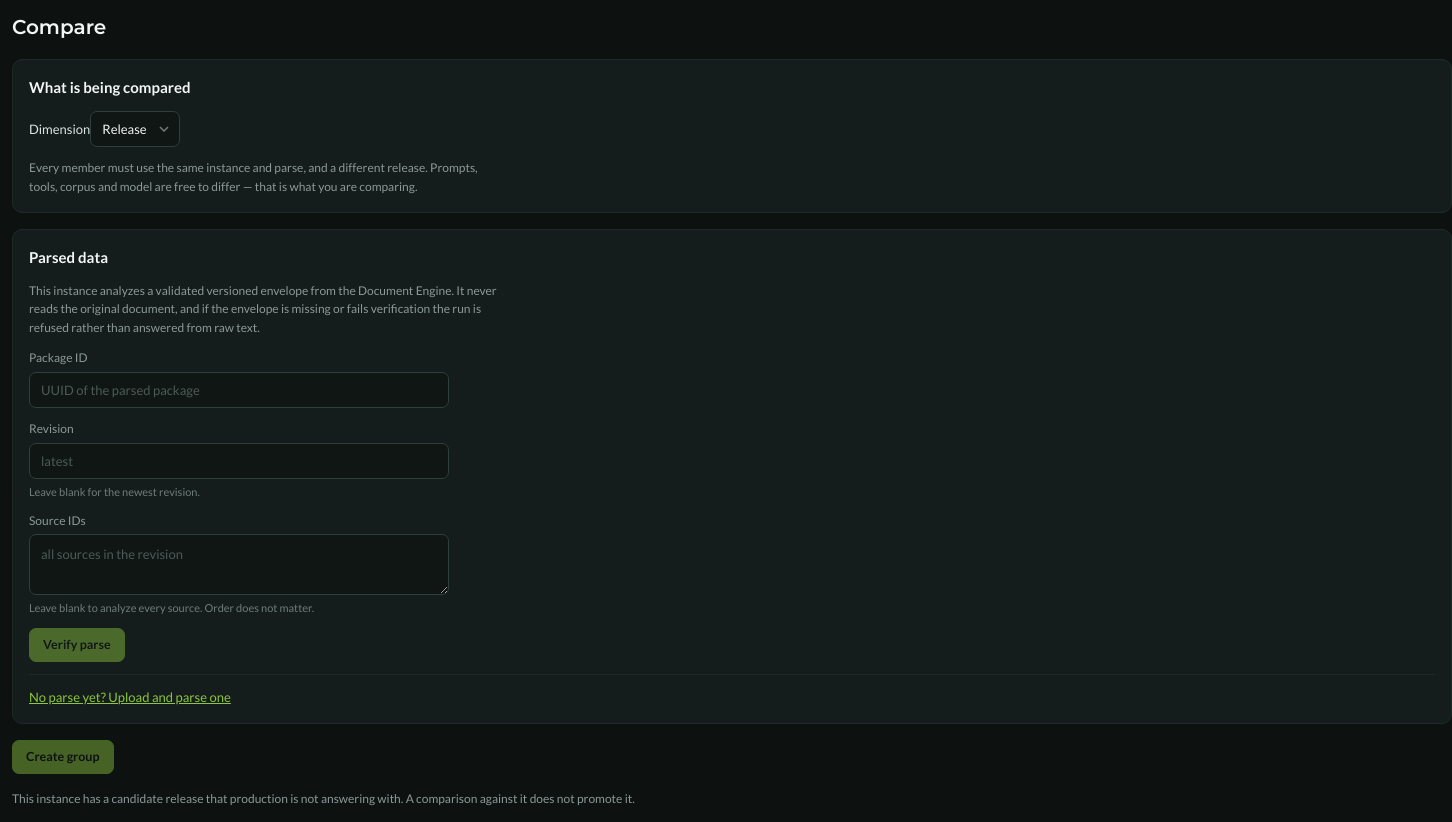
Test: InstanceCompare › states what each dimension holds equal before anything is chosen
The image size is (1452, 822).
Expected: the text "same instance and parse, and a different release" is shown, [29,160,478,194]
Select "Instance" in the dropdown labelled "Dimension" at (135, 129), box [90,111,180,147]
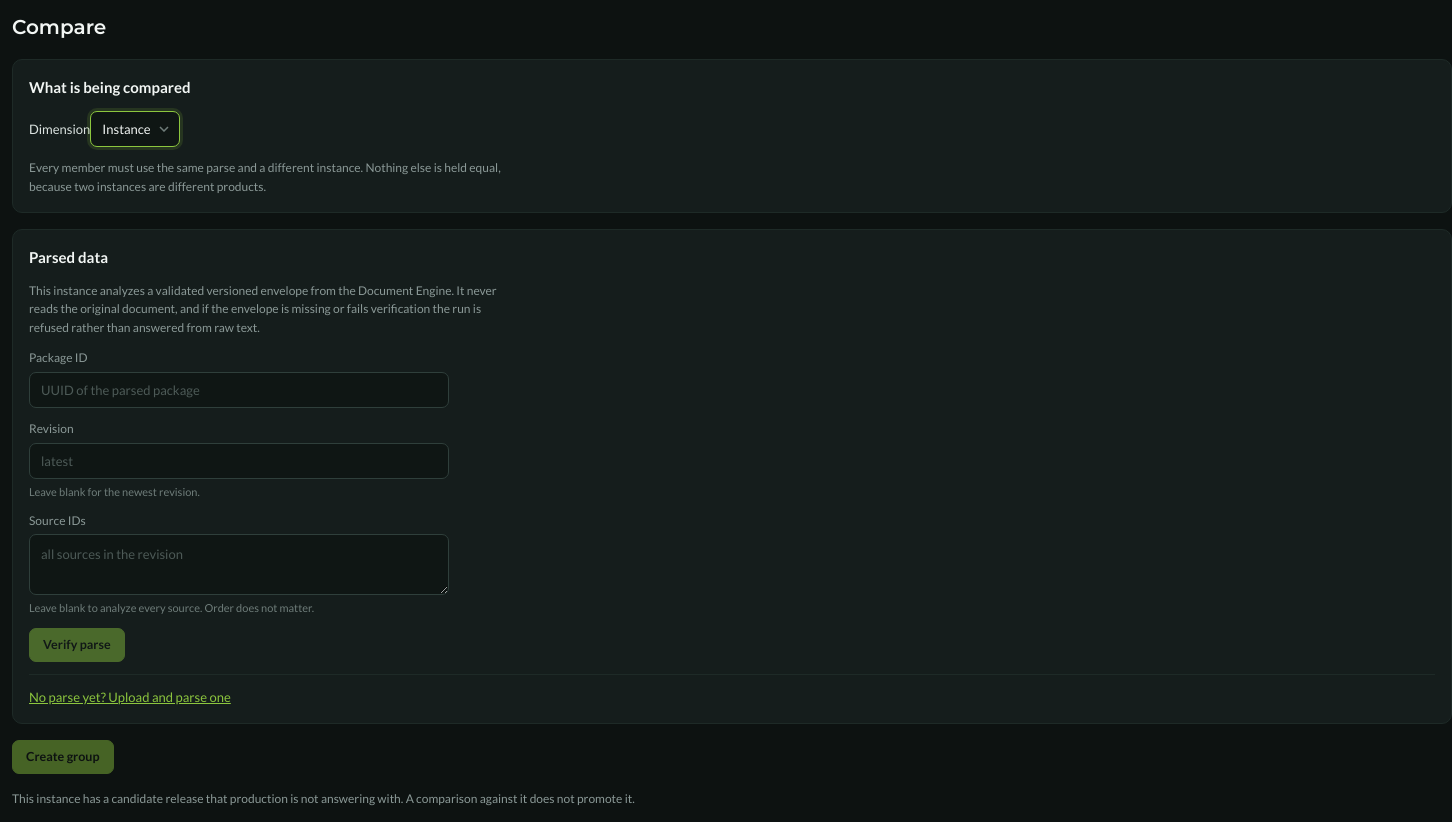
Expected: the text "same parse and a different instance" is shown, [29,160,501,194]
Select "Model" in the dropdown labelled "Dimension" at (135, 129), box [90,111,180,147]
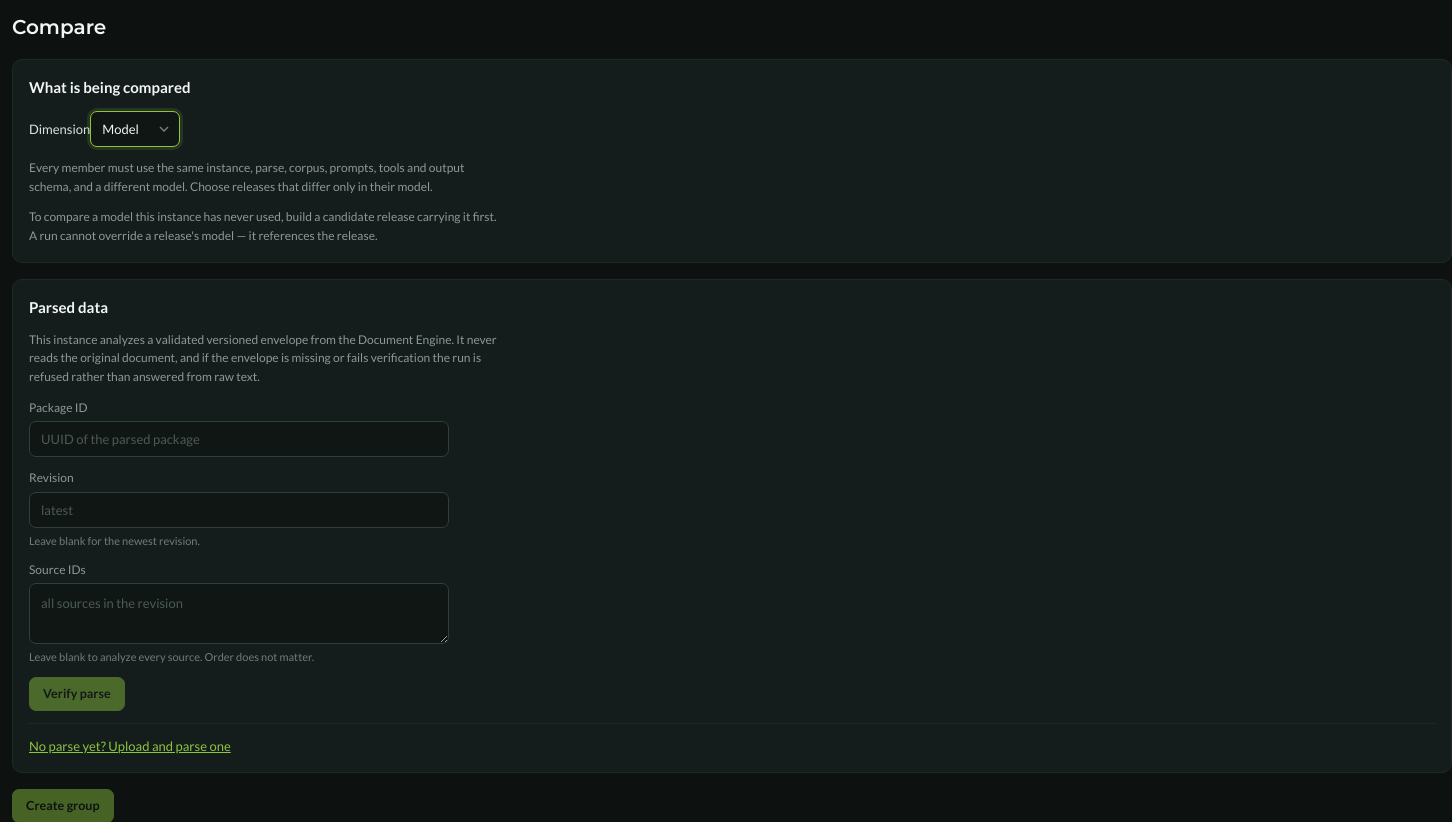
Expected: the text "same instance, parse, corpus, prompts, tools and output schema" is shown, [29,160,464,194]
